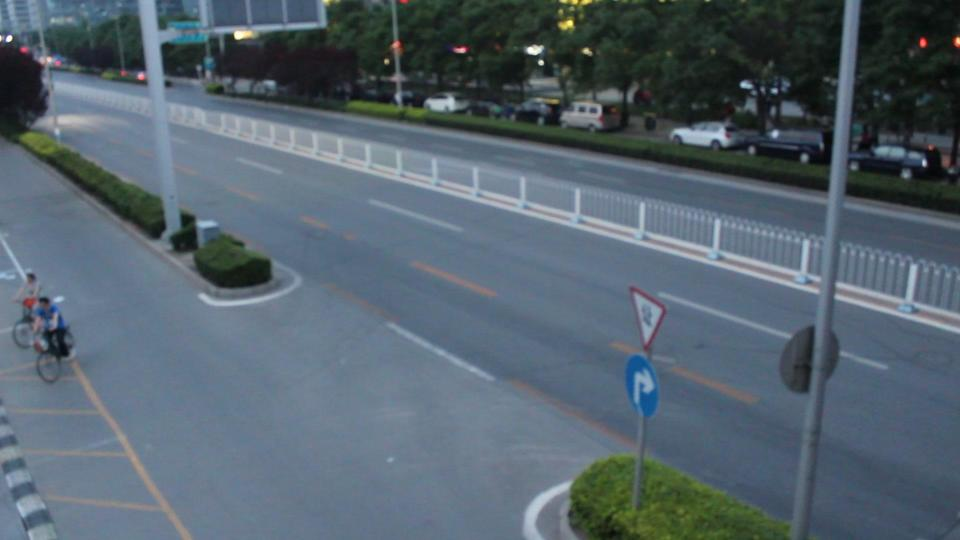bicycle: (33, 323, 72, 383)
car: (848, 144, 942, 180), (749, 128, 828, 165), (669, 121, 760, 151), (559, 102, 625, 133), (513, 98, 561, 125), (424, 92, 474, 114), (465, 101, 506, 118), (391, 90, 427, 107)
person: (30, 295, 73, 358), (11, 272, 44, 331)
sign: (623, 361, 661, 425), (627, 284, 669, 341)
